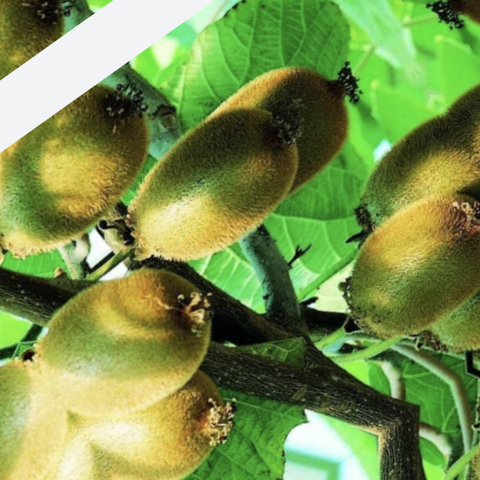kiwi: (81, 65, 342, 313), (0, 211, 240, 451), (0, 32, 213, 296), (310, 162, 480, 374)
